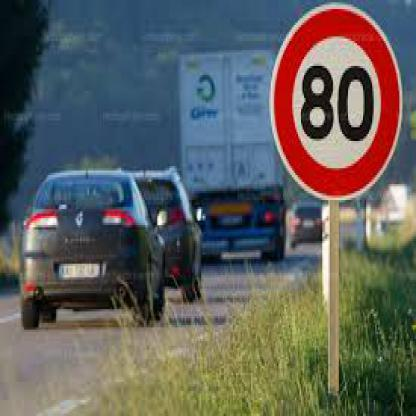Speed Limit 80: (278, 6, 397, 198)
